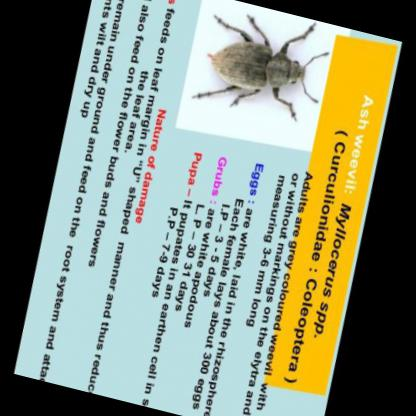ash weevil: (206, 15, 307, 108)
